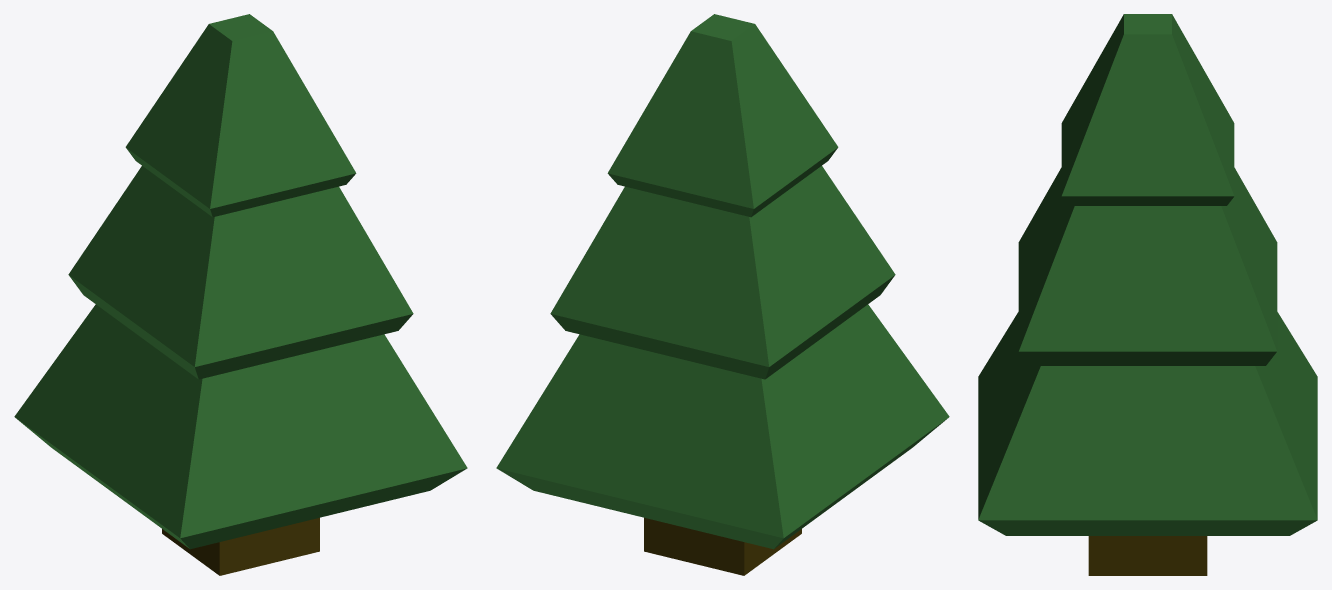
Rendered from tree.fbx.
The picture shows the model from 3 angles, left to right: view 1: azimuth 30°, elevation 25°; view 2: azimuth 150°, elevation 25°; view 3: azimuth 270°, elevation 25°; orthographic projection. The views are drawn at different scales.
Parts seen in each view (by area): view 1: pie, medio, copa, tronco; view 2: pie, medio, copa, tronco; view 3: pie, medio, copa, tronco.
Boxes of the visible parts, <box> form: pie: <box>14,304,467,549</box>; medio: <box>68,166,413,379</box>; copa: <box>125,14,356,217</box>; tronco: <box>162,517,319,575</box>; pie: <box>496,304,949,549</box>; medio: <box>550,166,895,379</box>; copa: <box>607,14,838,217</box>; tronco: <box>644,517,801,575</box>; pie: <box>978,312,1317,535</box>; medio: <box>1018,167,1277,365</box>; copa: <box>1061,14,1234,205</box>; tronco: <box>1088,536,1207,575</box>.
Bounding box in the file's own units: 76.72 × 131 × 76.72.
